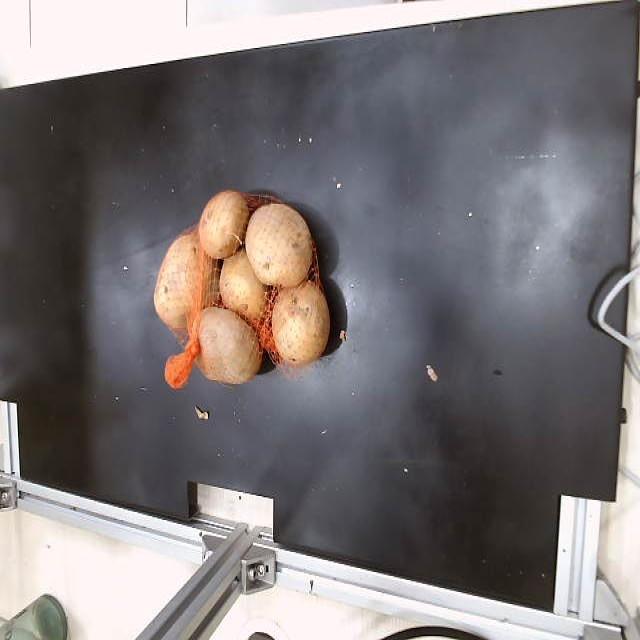potato: (245, 203, 312, 286), (272, 282, 330, 365), (196, 310, 262, 382), (154, 232, 199, 330), (199, 190, 249, 258), (219, 248, 266, 319)
